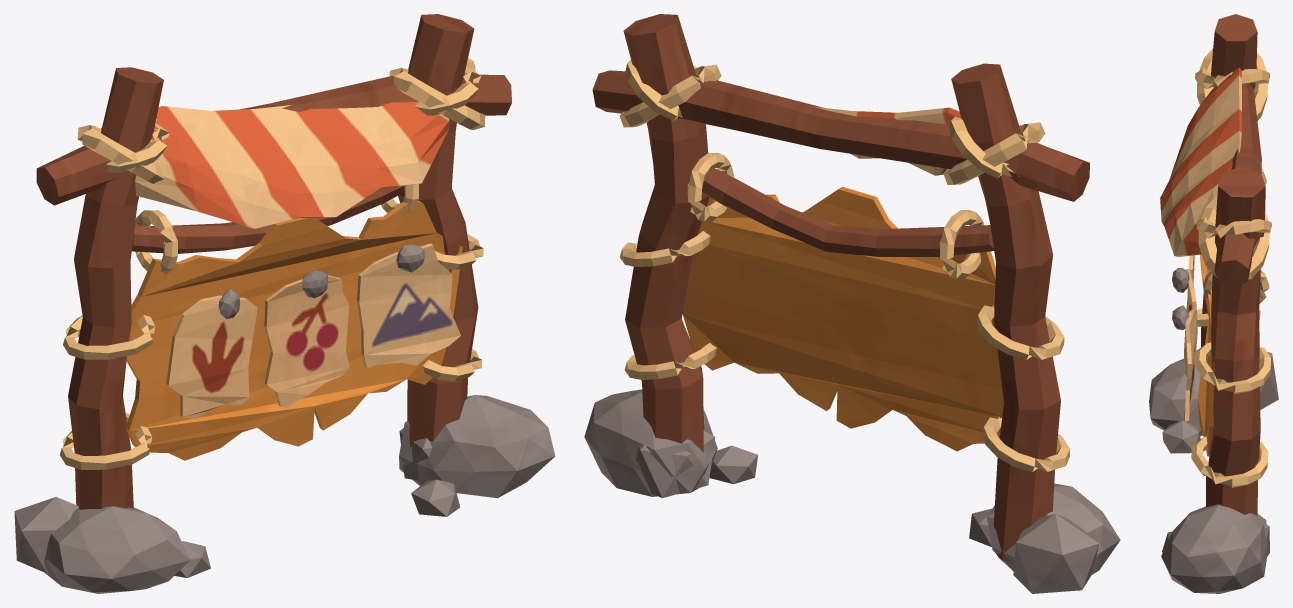
The model's file is Prehistoric_Quest_Board.glb.
3 renders of one model, left to right at view 1: azimuth 30°, elevation 25°; view 2: azimuth 150°, elevation 25°; view 3: azimuth 270°, elevation 25°, orthographic. The views are drawn at different scales.
Visible parts, largest first — view 1: Prehistoric Quest Board; view 2: Prehistoric Quest Board; view 3: Prehistoric Quest Board.
Boxes of the visible parts, bbox=[...] form: Prehistoric Quest Board: bbox=[14, 14, 555, 593]; Prehistoric Quest Board: bbox=[584, 14, 1120, 593]; Prehistoric Quest Board: bbox=[1149, 14, 1278, 593].
Size of the model in its own units: 3.09 by 2.84 by 0.7971.
3 materials, 3 textured.
